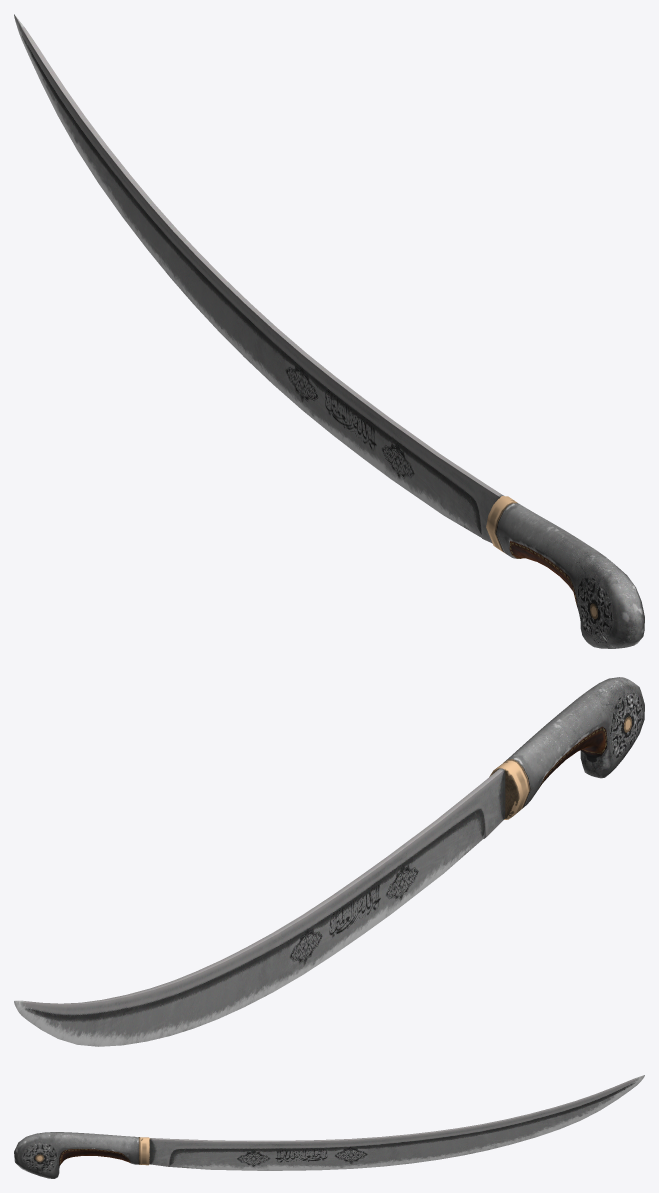
File: Arab_Swords_01.fbx
3 renders of one model, top to bottom at view 1: azimuth 30°, elevation 25°; view 2: azimuth 150°, elevation 25°; view 3: azimuth 270°, elevation 25°, orthographic. The views are drawn at different scales.
Parts seen in each view (by area): view 1: Arab_Swords_01_LOD0; view 2: Arab_Swords_01_LOD0; view 3: Arab_Swords_01_LOD0.
Part boxes in pixels (<box>): Arab_Swords_01_LOD0: <box>14,14,644,648</box>; Arab_Swords_01_LOD0: <box>14,677,644,1046</box>; Arab_Swords_01_LOD0: <box>14,1075,644,1178</box>.
Size of what is drawn, in the model's own units: 2.2 by 11.6 by 64.68.
